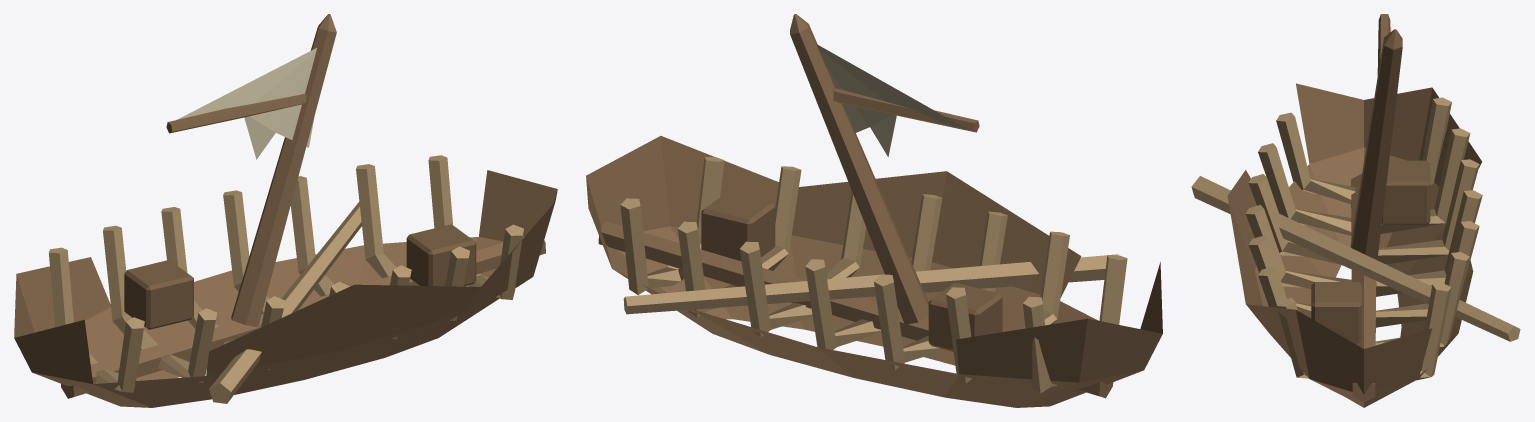
The model's file is site-wreck.glb.
3 renders of one model, left to right at view 1: azimuth 30°, elevation 25°; view 2: azimuth 150°, elevation 25°; view 3: azimuth 270°, elevation 25°, orthographic. The views are drawn at different scales.
Parts seen in each view (by area): view 1: Broken planking; view 2: Broken planking; view 3: Broken planking.
Part boxes in pixels (x1=…): Broken planking: x1=14, y1=14, x2=557, y2=407; Broken planking: x1=586, y1=14, x2=1162, y2=407; Broken planking: x1=1191, y1=14, x2=1520, y2=407.
Size of the model in its own units: 0.92 by 0.5274 by 0.4821.
